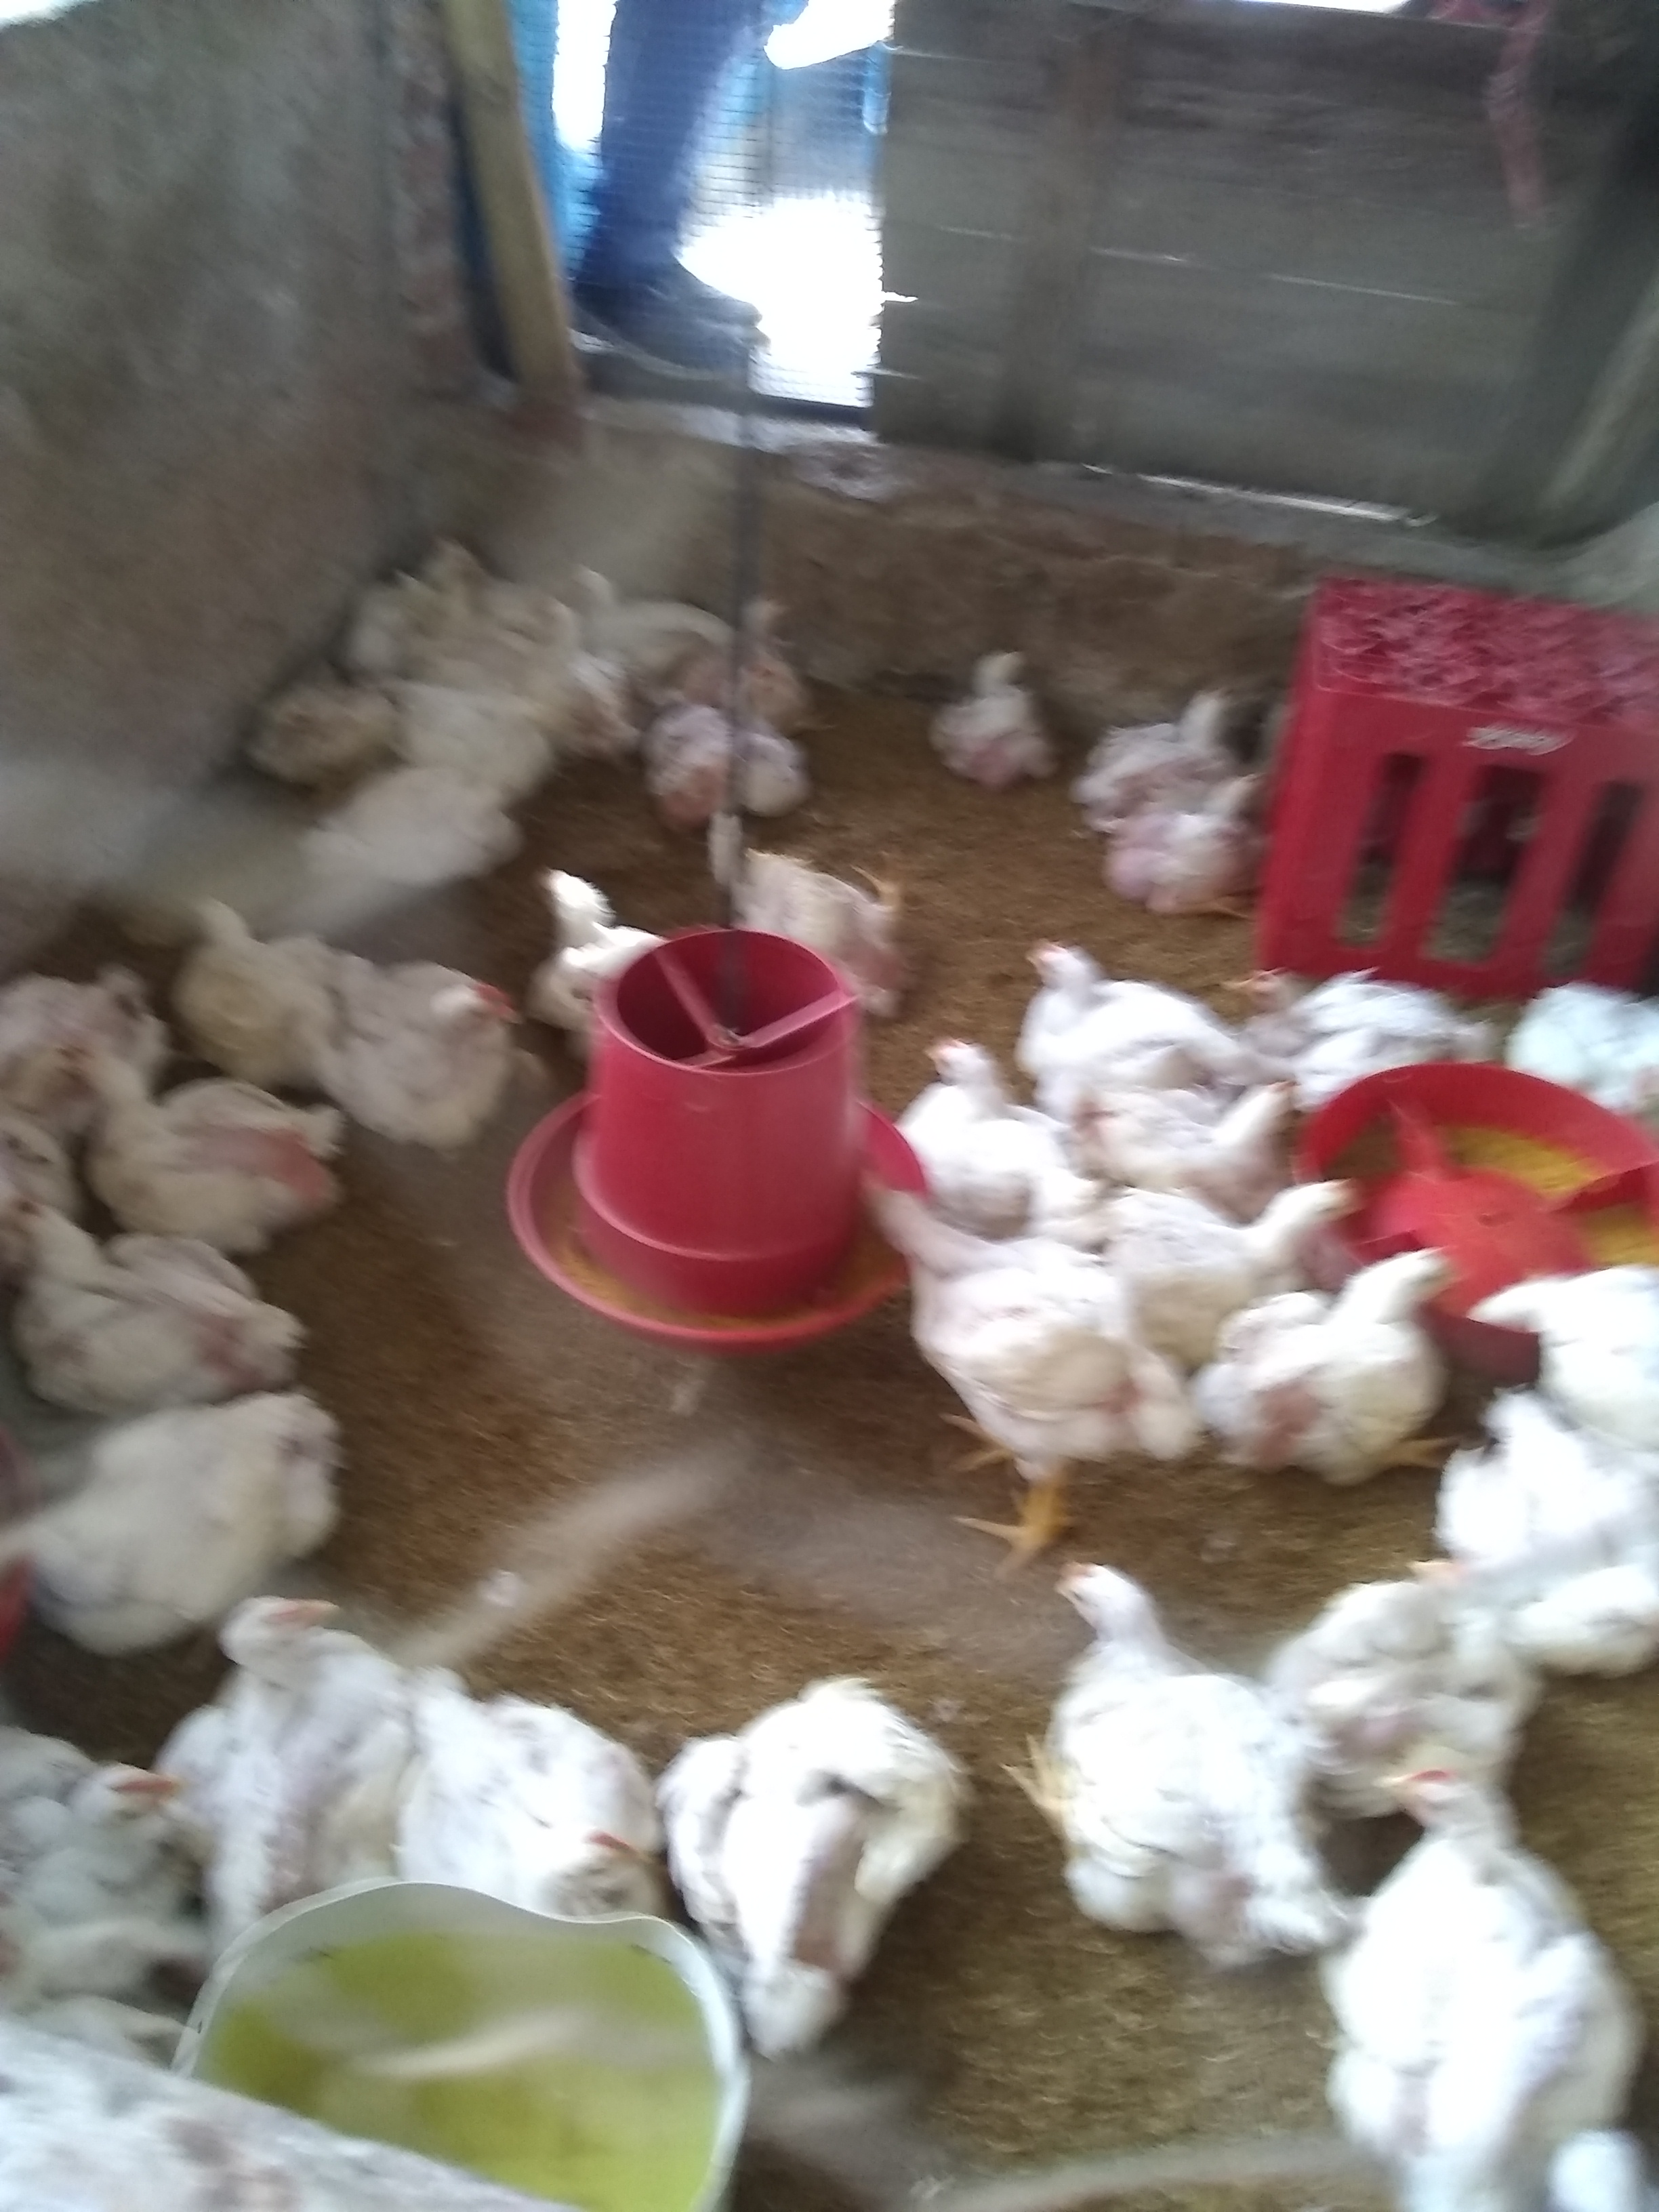Pollos: (1344, 1761, 1640, 2212), (847, 1143, 1152, 1508), (1046, 1538, 1298, 1944), (688, 1642, 978, 1986), (0, 1392, 359, 1639), (0, 1205, 336, 1420), (1202, 1228, 1504, 1467), (1408, 1371, 1659, 1644), (197, 1575, 411, 1883), (0, 1738, 251, 1984), (429, 1655, 655, 1916), (1298, 1552, 1535, 1799), (61, 1036, 342, 1240), (329, 941, 551, 1188), (695, 808, 899, 1031), (0, 928, 206, 1092), (875, 1008, 1058, 1184), (507, 852, 671, 1043), (1009, 932, 1202, 1094), (1084, 1172, 1373, 1277), (178, 883, 340, 1069), (317, 777, 519, 921), (1208, 965, 1478, 1073), (1460, 1252, 1659, 1397), (1542, 932, 1659, 1148), (1122, 777, 1277, 939), (911, 613, 1040, 805), (1082, 669, 1253, 801), (1150, 1082, 1314, 1184), (528, 580, 626, 752), (648, 700, 775, 827), (422, 681, 556, 789), (568, 549, 626, 643)
